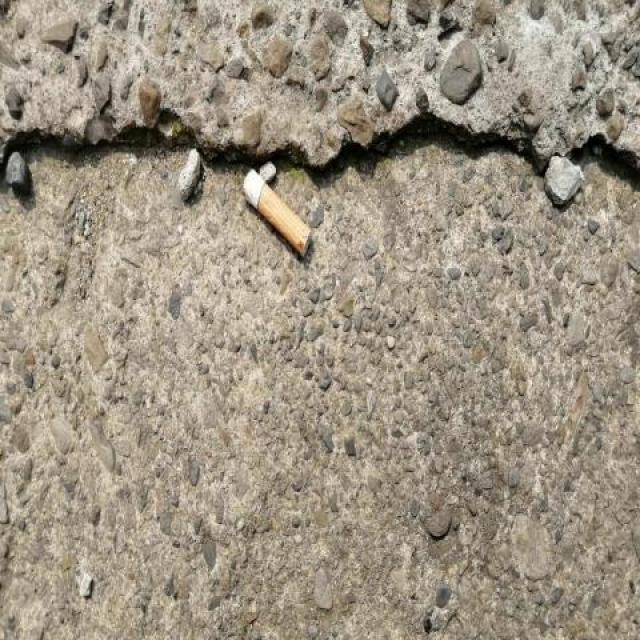non-organic waste: (236, 161, 316, 263)
